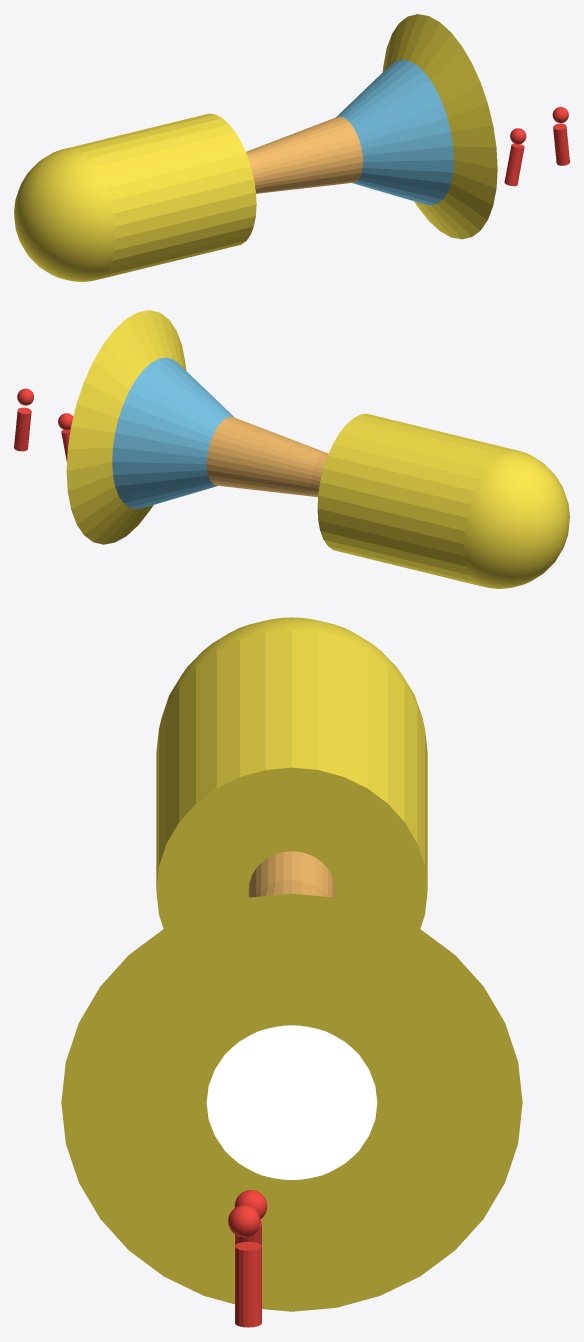
Rendered from Alarma.glb.
3 renders of one model, top to bottom at view 1: azimuth 30°, elevation 25°; view 2: azimuth 150°, elevation 25°; view 3: azimuth 270°, elevation 25°, orthographic. The views are drawn at different scales.
Visible parts, largest first — view 1: AlarmCapsule, MegaMouth, MegaMid, AlarmCapsuleLeftCap, MegaNeck, WaveBar1, WaveBar2, MegaConnector; view 2: AlarmCapsule, MegaMouth, MegaMid, AlarmCapsuleLeftCap, MegaNeck, WaveBar2, MegaConnector; view 3: MegaMouth, AlarmCapsule, MegaInnerBulb, AlarmCapsuleLeftCap, MegaConnector, WaveBar2.
Boxes of the visible parts, bbox=[...] form: AlarmCapsule: bbox=[69, 113, 256, 278]; MegaMouth: bbox=[382, 14, 497, 239]; MegaMid: bbox=[336, 59, 453, 205]; AlarmCapsuleLeftCap: bbox=[14, 148, 115, 281]; MegaNeck: bbox=[247, 116, 362, 193]; WaveBar1: bbox=[504, 143, 524, 186]; WaveBar2: bbox=[553, 123, 569, 165]; MegaConnector: bbox=[246, 151, 262, 193]; AlarmCapsule: bbox=[317, 413, 512, 585]; MegaMouth: bbox=[66, 310, 186, 544]; MegaMid: bbox=[112, 357, 234, 509]; AlarmCapsuleLeftCap: bbox=[464, 449, 569, 588]; MegaNeck: bbox=[206, 417, 327, 496]; WaveBar2: bbox=[14, 407, 31, 451]; MegaConnector: bbox=[311, 453, 328, 496]; MegaMouth: bbox=[61, 893, 522, 1311]; AlarmCapsule: bbox=[156, 630, 427, 928]; MegaInnerBulb: bbox=[206, 1025, 377, 1179]; AlarmCapsuleLeftCap: bbox=[159, 617, 424, 726]; MegaConnector: bbox=[248, 851, 335, 897]; WaveBar2: bbox=[235, 1241, 261, 1327].
Bounding box in the file's own units: 4.56 × 1.7 × 1.7.
